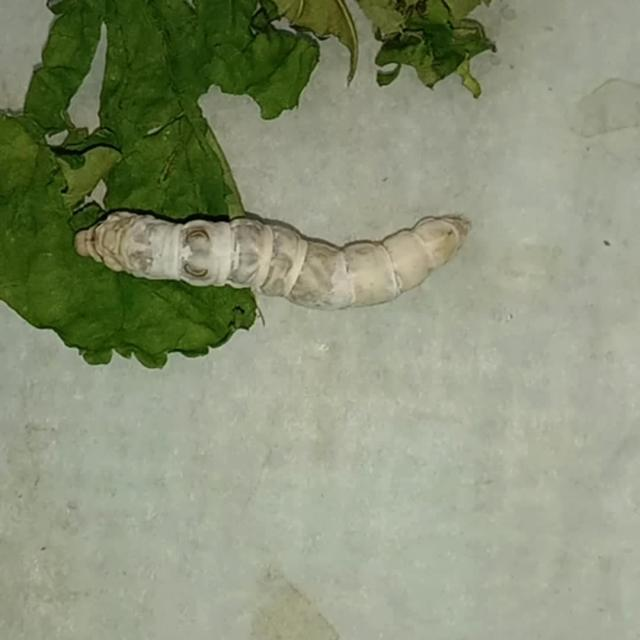Grasserie: (60, 184, 479, 316)
